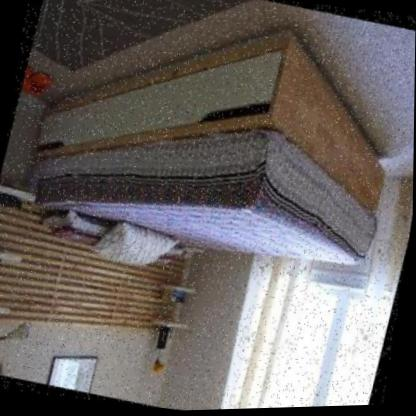Bed: (5, 0, 416, 328)
